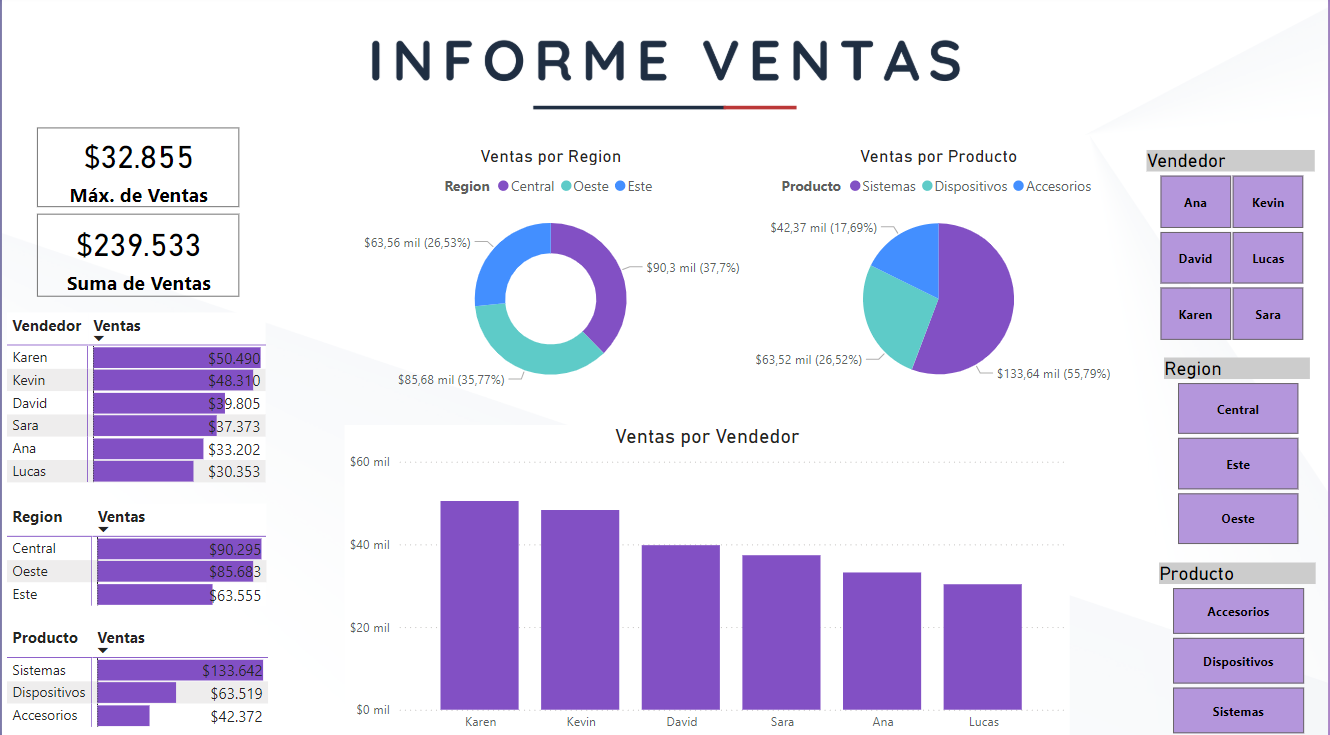

The dashboard page shown, as its layout file describes it:
{"tool":"powerbi","page":{"name":"InformeVentas","canvas":[1280,720],"ordinal":1},"visuals":[{"type":"pivotTable","fields":{"Values":["Sum(Ventas_Datos.Ventas)"],"Rows":["Ventas_Datos.Vendedor"]},"box":[0,301.7,263.3,183.3],"z":0},{"type":"slicer","fields":{"Values":["Ventas_Datos.Vendedor"]},"box":[1091.7,145,188.3,195],"z":1000},{"type":"slicer","fields":{"Values":["Ventas_Datos.Region"]},"box":[1108.3,345,166.7,191.7],"z":2000},{"type":"slicer","fields":{"Values":["Ventas_Datos.Producto"]},"box":[1103.3,543.3,176.7,176.7],"z":3000},{"type":"pivotTable","fields":{"Values":["Sum(Ventas_Datos.Ventas)"],"Rows":["Ventas_Datos.Producto"]},"box":[0,603.3,263.3,116.7],"z":4000},{"type":"pivotTable","fields":{"Values":["Sum(Ventas_Datos.Ventas)"],"Rows":["Ventas_Datos.Region"]},"box":[0,486.7,263.3,113.3],"z":5000},{"type":"card","fields":{"Values":["Sum(Ventas_Datos.Ventas)"]},"box":[33.3,211.7,195,80],"z":6000},{"type":"card","fields":{"Values":["Max(Ventas_Datos.Ventas)"]},"box":[34,128,195,77],"z":7000},{"type":"clusteredColumnChart","title":"Ventas por Vendedor","fields":{"Y":["Sum(Ventas_Datos.Ventas)"],"Category":["Ventas_Datos.Vendedor"]},"box":[330,415,700,305],"z":8000},{"type":"donutChart","title":"Ventas por Region","fields":{"Category":["Ventas_Datos.Region"],"Y":["Sum(Ventas_Datos.Ventas)"]},"box":[330,145,398.3,248.3],"z":9000},{"type":"pieChart","title":" Ventas por Producto","fields":{"Category":["Ventas_Datos.Producto"],"Y":["Sum(Ventas_Datos.Ventas)"]},"box":[716.7,145,375,248.3],"z":10000}]}

Visuals, with their boxes in screenshot pixels (x1, y1, x2, y2), scaled from the page's 1280x720 canvas onto the 1330x735 screenshot:
pivotTable - Sum(Ventas_Datos.Ventas) x Ventas_Datos.Vendedor: region(0, 308, 274, 495)
slicer - Ventas_Datos.Vendedor: region(1134, 148, 1329, 347)
slicer - Ventas_Datos.Region: region(1152, 352, 1325, 548)
slicer - Ventas_Datos.Producto: region(1146, 555, 1329, 734)
pivotTable - Sum(Ventas_Datos.Ventas) x Ventas_Datos.Producto: region(0, 616, 274, 734)
pivotTable - Sum(Ventas_Datos.Ventas) x Ventas_Datos.Region: region(0, 497, 274, 612)
card - Sum(Ventas_Datos.Ventas): region(35, 216, 237, 298)
card - Max(Ventas_Datos.Ventas): region(35, 131, 238, 209)
"Ventas por Vendedor" clusteredColumnChart: region(343, 424, 1070, 734)
"Ventas por Region" donutChart: region(343, 148, 757, 401)
" Ventas por Producto" pieChart: region(745, 148, 1134, 401)
